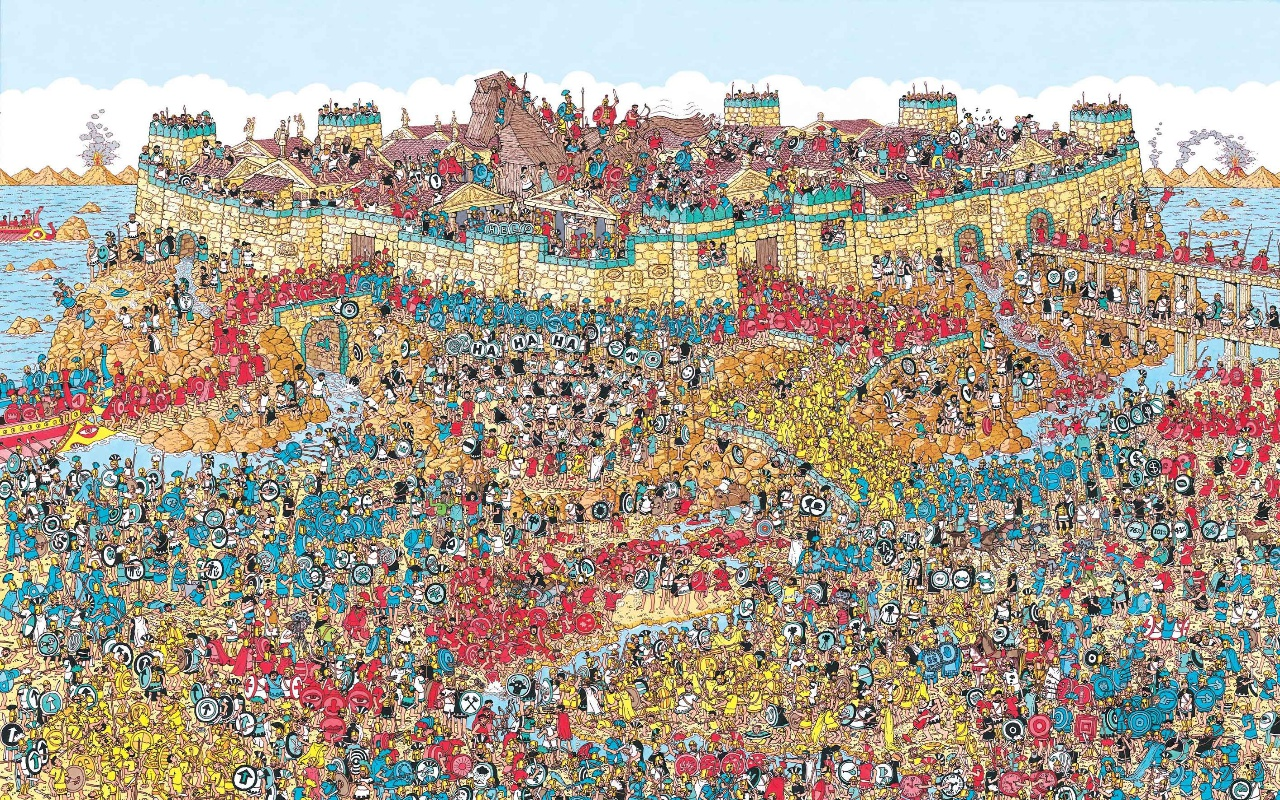waldo: (208, 669, 219, 687)
